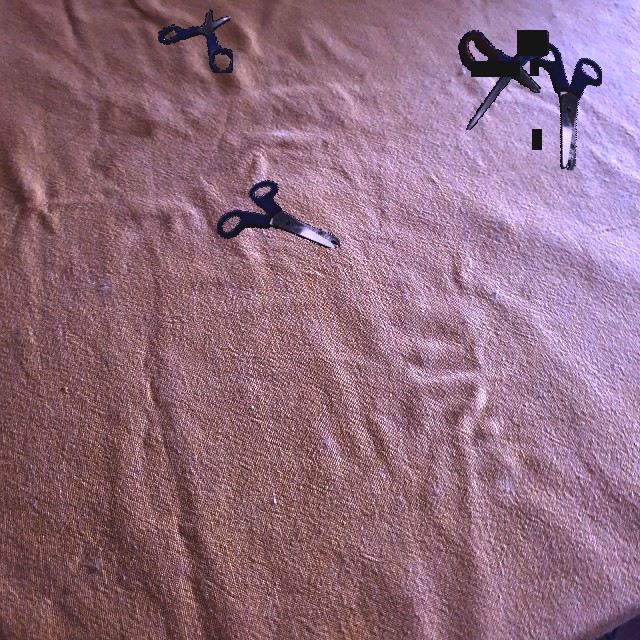scissors: (528, 39, 602, 170), (458, 30, 549, 130), (217, 180, 340, 248), (158, 9, 233, 73)
